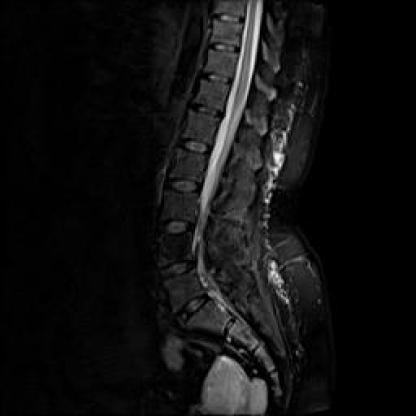Disc Relaxationrotation: (153, 256, 200, 280)
